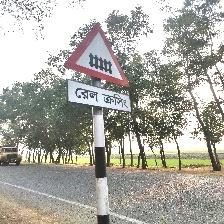Rail-crossing: (63, 23, 131, 116)
